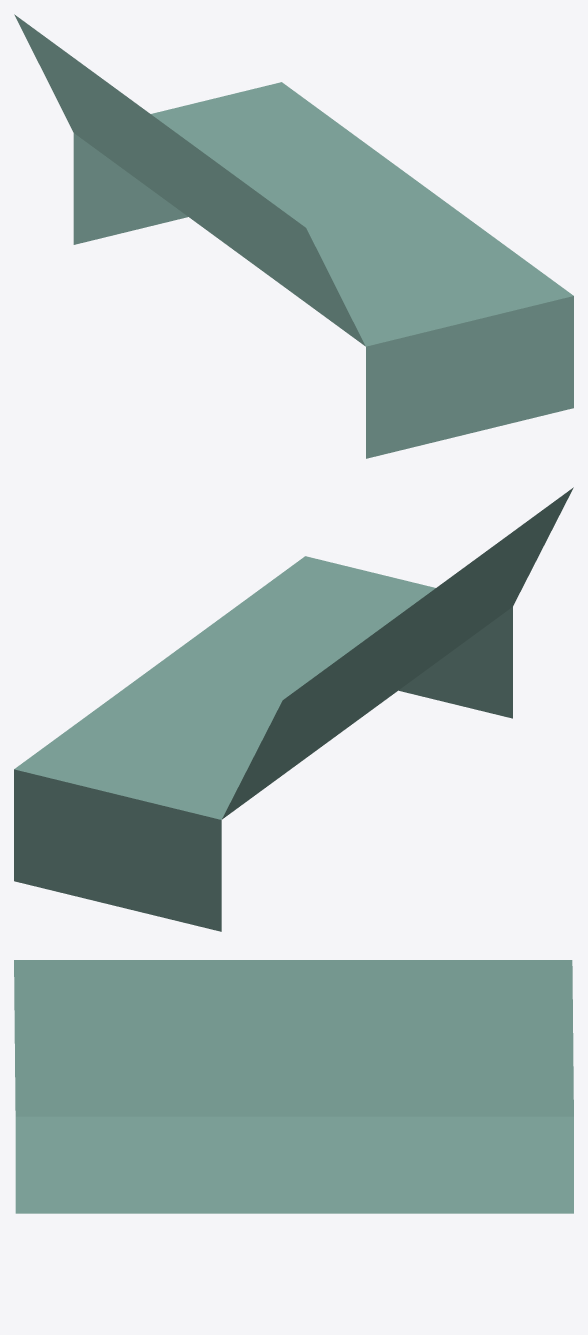
File: bench.glb
3 renders of one model, top to bottom at view 1: azimuth 30°, elevation 25°; view 2: azimuth 150°, elevation 25°; view 3: azimuth 270°, elevation 25°, orthographic. The views are drawn at different scales.
Visible parts, largest first — view 1: bench; view 2: bench; view 3: bench.
Part boxes in pixels (left/top/right/bottom): bench: left=14, top=14, right=573, bottom=458; bench: left=14, top=487, right=573, bottom=931; bench: left=14, top=960, right=573, bottom=1213.
Bounding box in the file's own units: 0.3683 × 0.3228 × 0.6957.
Materials: 1 (1 with a texture image).
